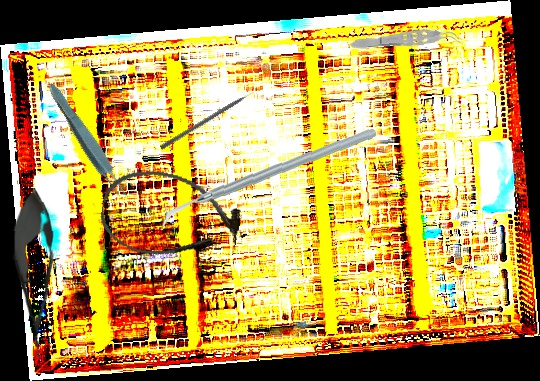Cannula: (94, 161, 248, 272)
Chopper: (159, 121, 376, 236)
Micro Scissor: (10, 187, 60, 361)
Pusher: (159, 87, 261, 151)
Tissue Forceps: (42, 79, 133, 205), (349, 26, 464, 54)
